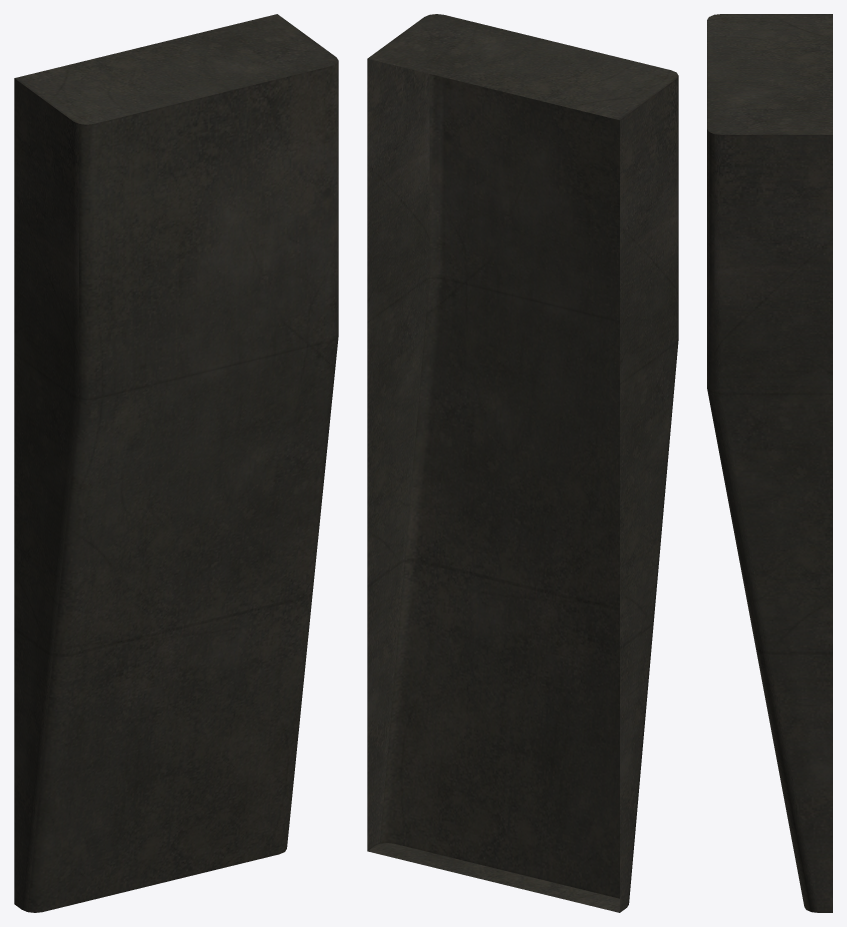
Rendered from wall_element_1_bottom.obj.
The picture shows the model from 3 angles, left to right: view 1: azimuth 30°, elevation 25°; view 2: azimuth 150°, elevation 25°; view 3: azimuth 270°, elevation 25°; orthographic projection. The views are drawn at different scales.
Parts seen in each view (by area): view 1: wall_element_1_bottom; view 2: wall_element_1_bottom; view 3: wall_element_1_bottom.
Boxes of the visible parts, bbox=[...] form: wall_element_1_bottom: bbox=[14, 14, 338, 912]; wall_element_1_bottom: bbox=[367, 14, 678, 912]; wall_element_1_bottom: bbox=[707, 14, 832, 912].
Size of the model in its own units: 1 by 3 by 0.44.
